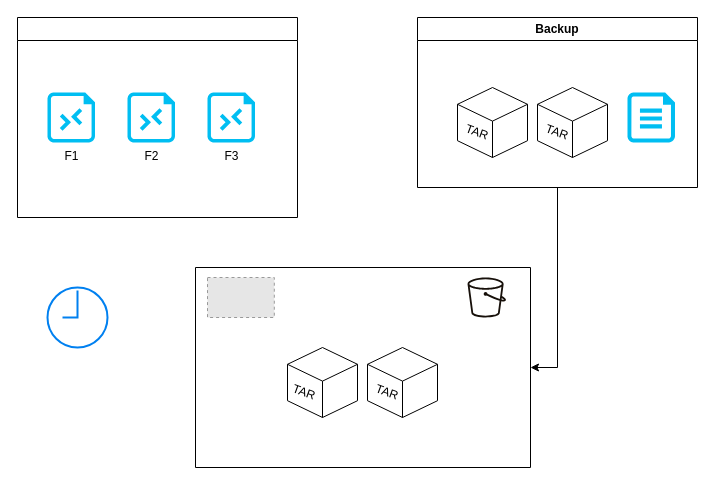
Image size: 715x485. Some labels were removed from this diagram. Grey dashed boxes stand in for pictures. The shapes that lost their labels are listed below. From the top down, each one's box as (x1, y1, x2, y2) in pixels, then its label:
(16, 16, 298, 218): Bash
(627, 92, 674, 142): Log File
(46, 286, 108, 348): Every Day At Midnight
(467, 277, 506, 317): S3 Bucket
